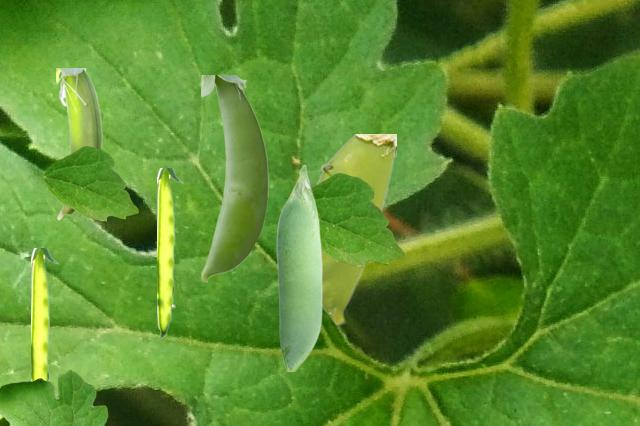pea: (315, 134, 395, 323), (201, 75, 267, 281), (276, 164, 321, 370), (56, 68, 102, 219), (157, 168, 182, 336), (31, 248, 57, 380)
